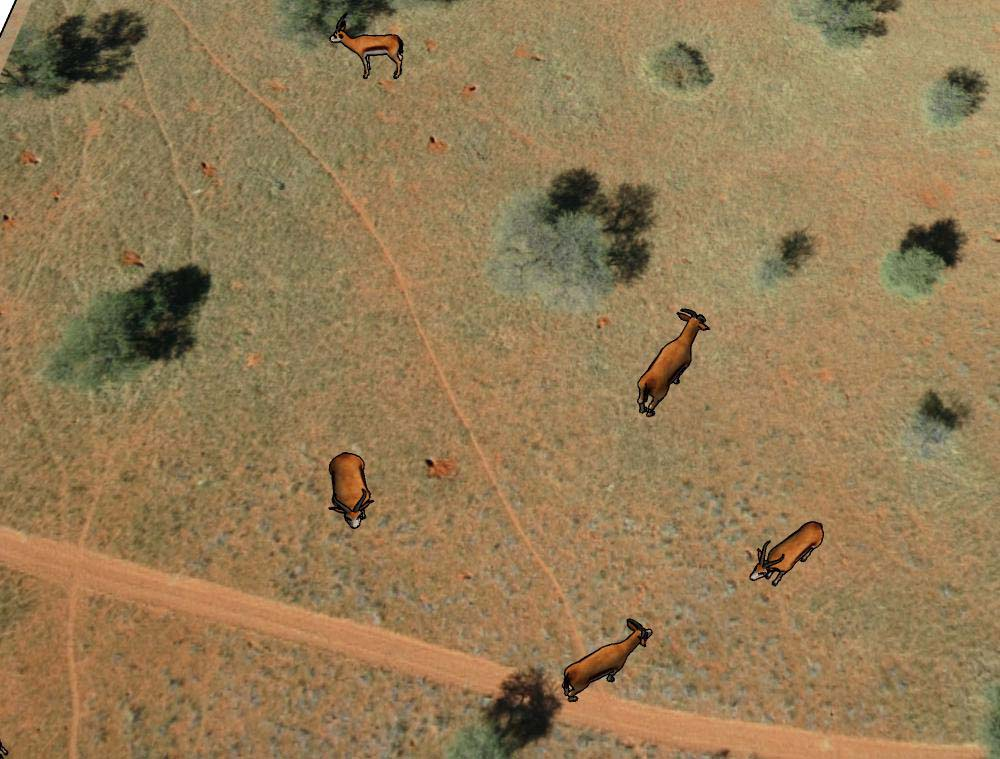springbok: (629, 304, 714, 420), (556, 609, 659, 704), (747, 506, 825, 598), (325, 12, 408, 87), (325, 447, 381, 534)
